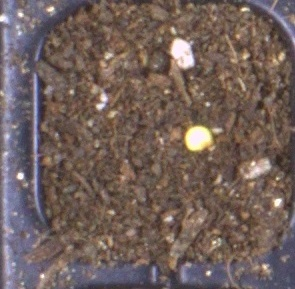chilli seed: (184, 125, 213, 152)
